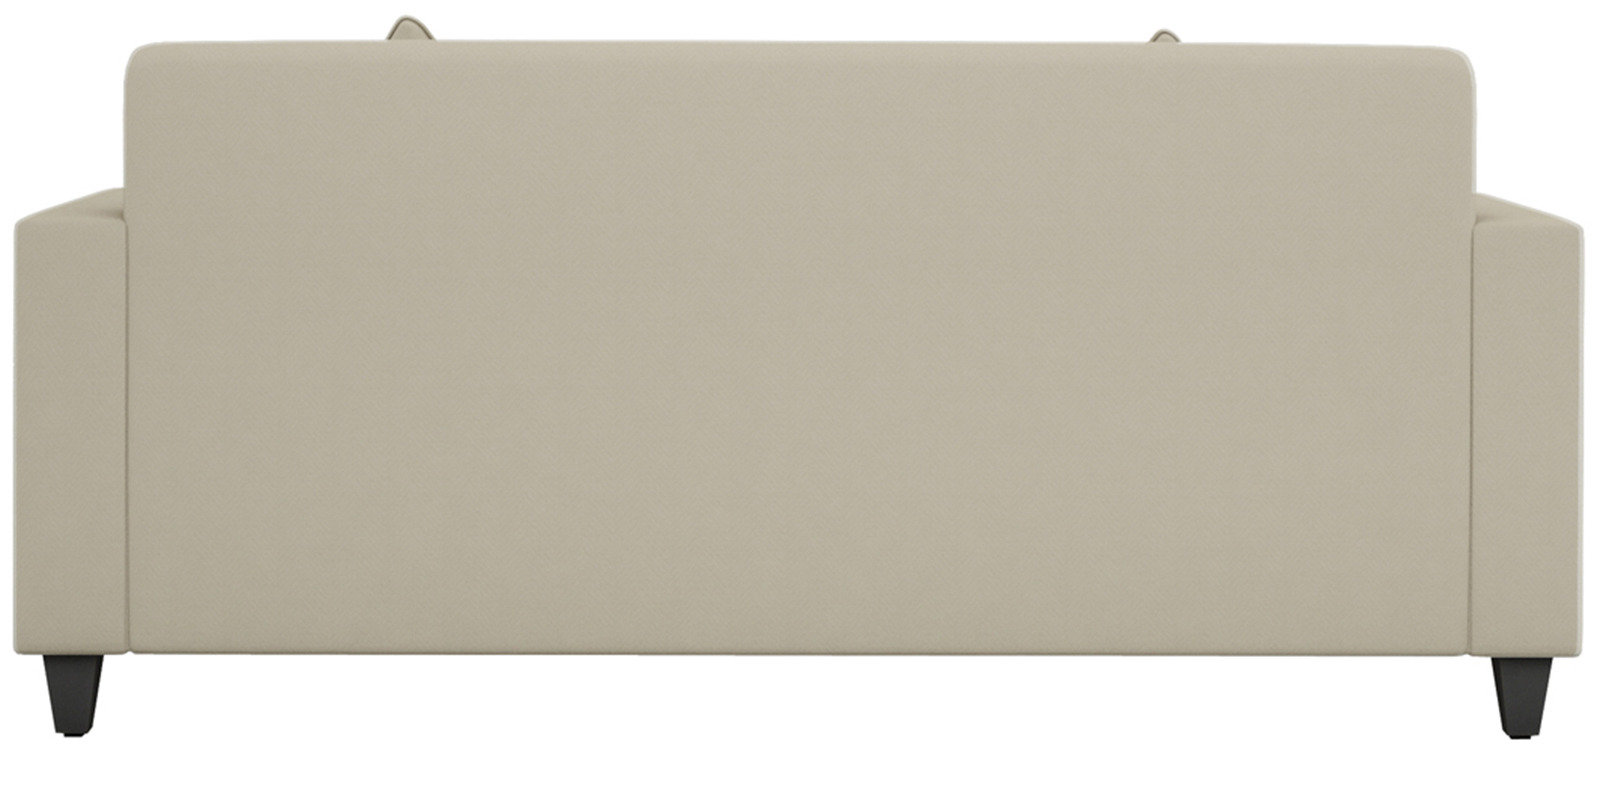Cooper Three Seater Sofa in Beige Colour by ARRA: (14, 24, 1599, 738)
